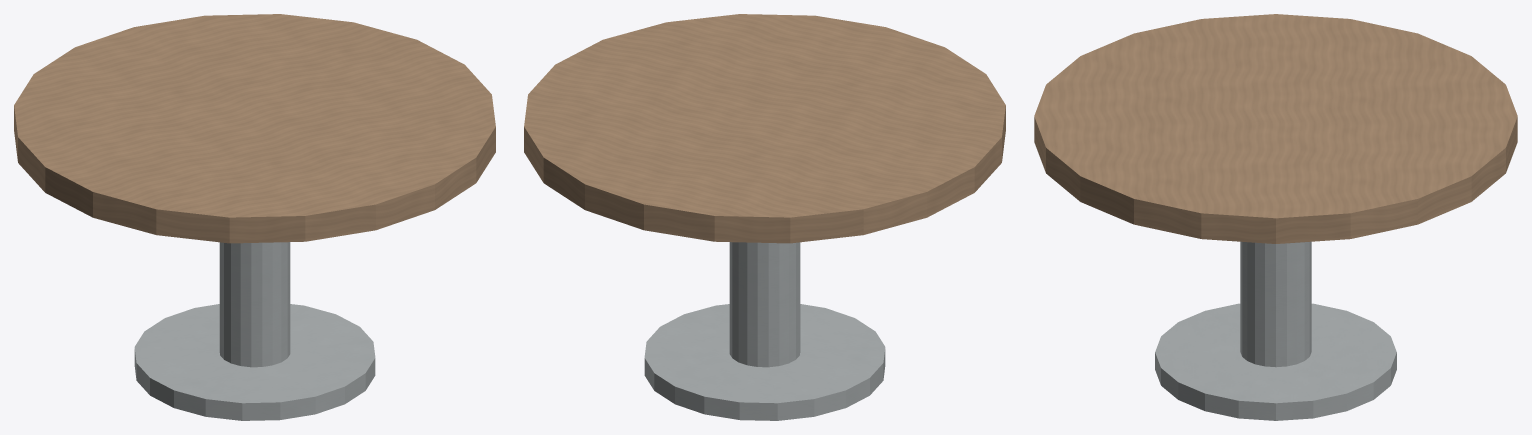
Rendered from 07_round_dining_table.glb.
The picture shows the model from 3 angles, left to right: view 1: azimuth 30°, elevation 25°; view 2: azimuth 150°, elevation 25°; view 3: azimuth 270°, elevation 25°; orthographic projection.
Parts seen in each view (by area): view 1: Intact; view 2: Intact; view 3: Intact.
Part boxes in pixels (x1,y1,x2,y2): Intact: (14,14,495,420); Intact: (524,14,1005,420); Intact: (1034,14,1517,420).
Bounding box in the file's own units: 1.51 × 0.875 × 1.51.
Materials: 2 (2 with a texture image).
